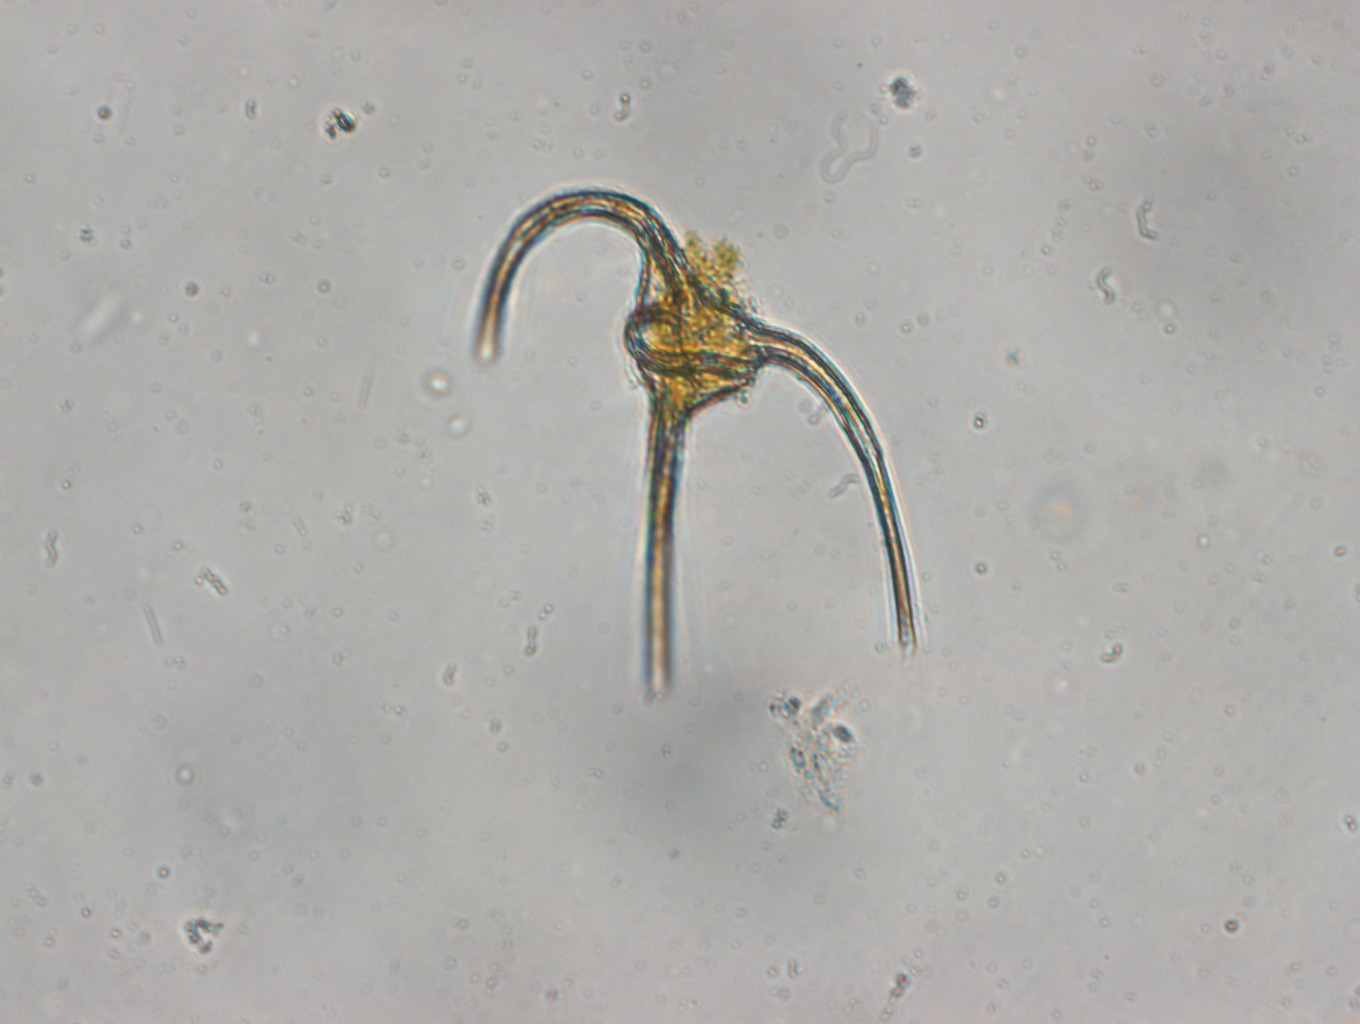ceratium trichoceros: (464, 170, 930, 708)
